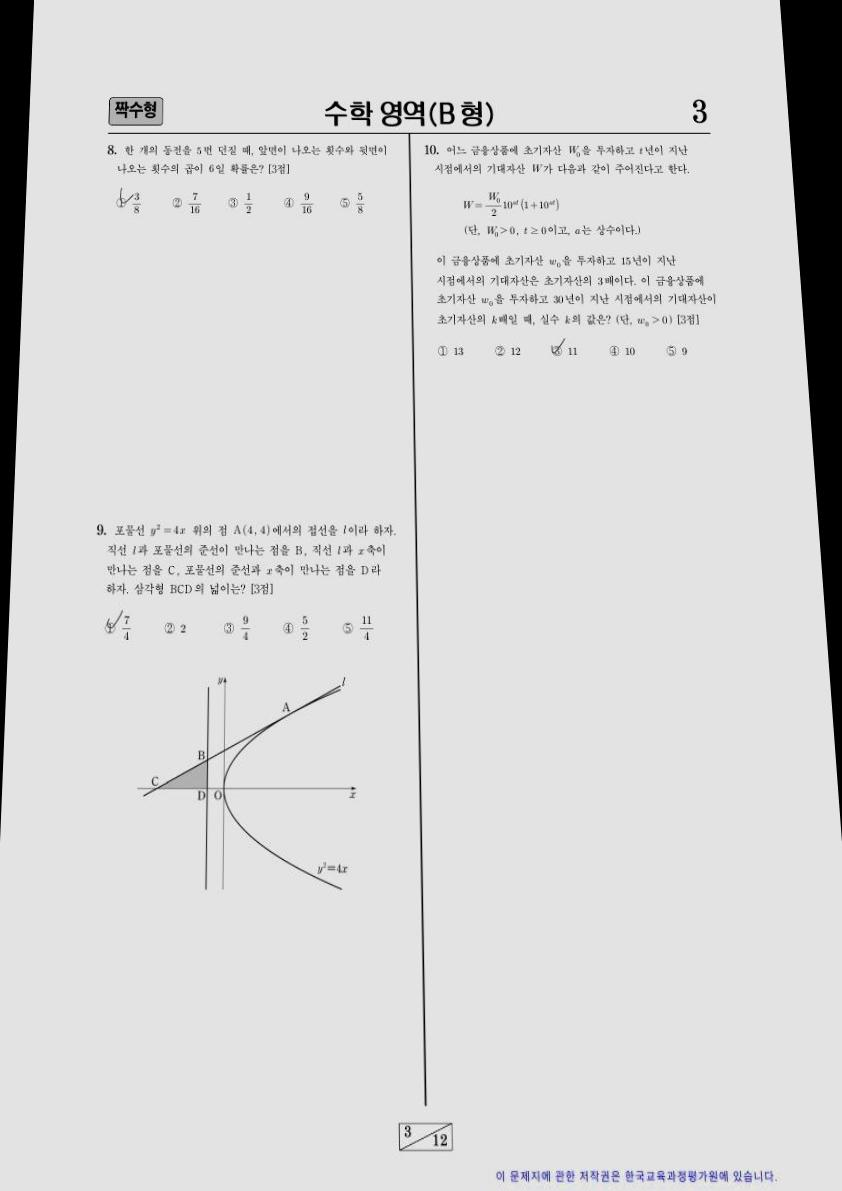question: (81, 511, 405, 911), (410, 133, 722, 376), (96, 134, 396, 229)
